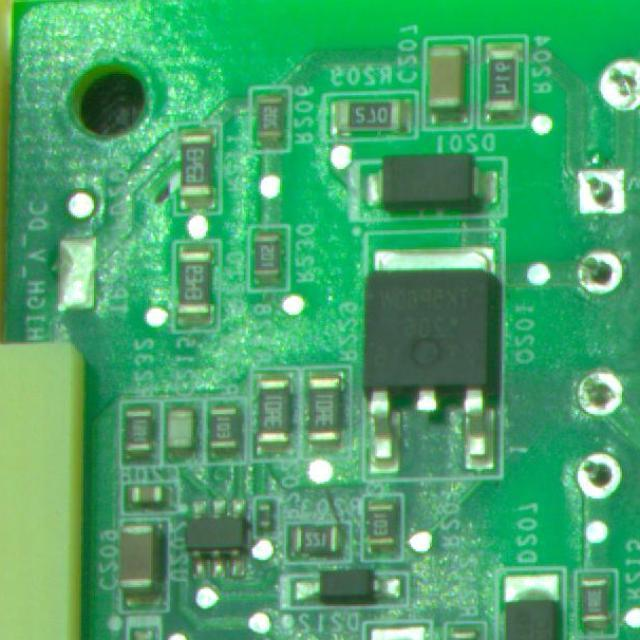Insufficient solder: (560, 161, 639, 223), (568, 244, 630, 302), (570, 366, 630, 420), (567, 446, 623, 502), (590, 55, 640, 113)
